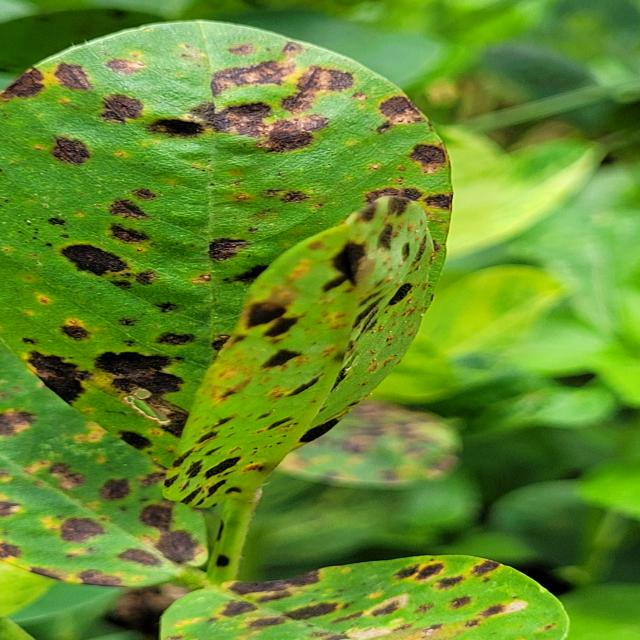Ground nut_tikka leaf spot: (1, 21, 463, 605)
